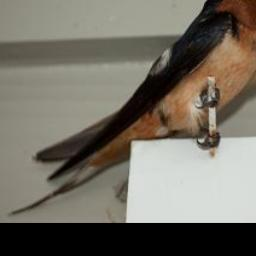Swallow: (5, 0, 256, 211)
